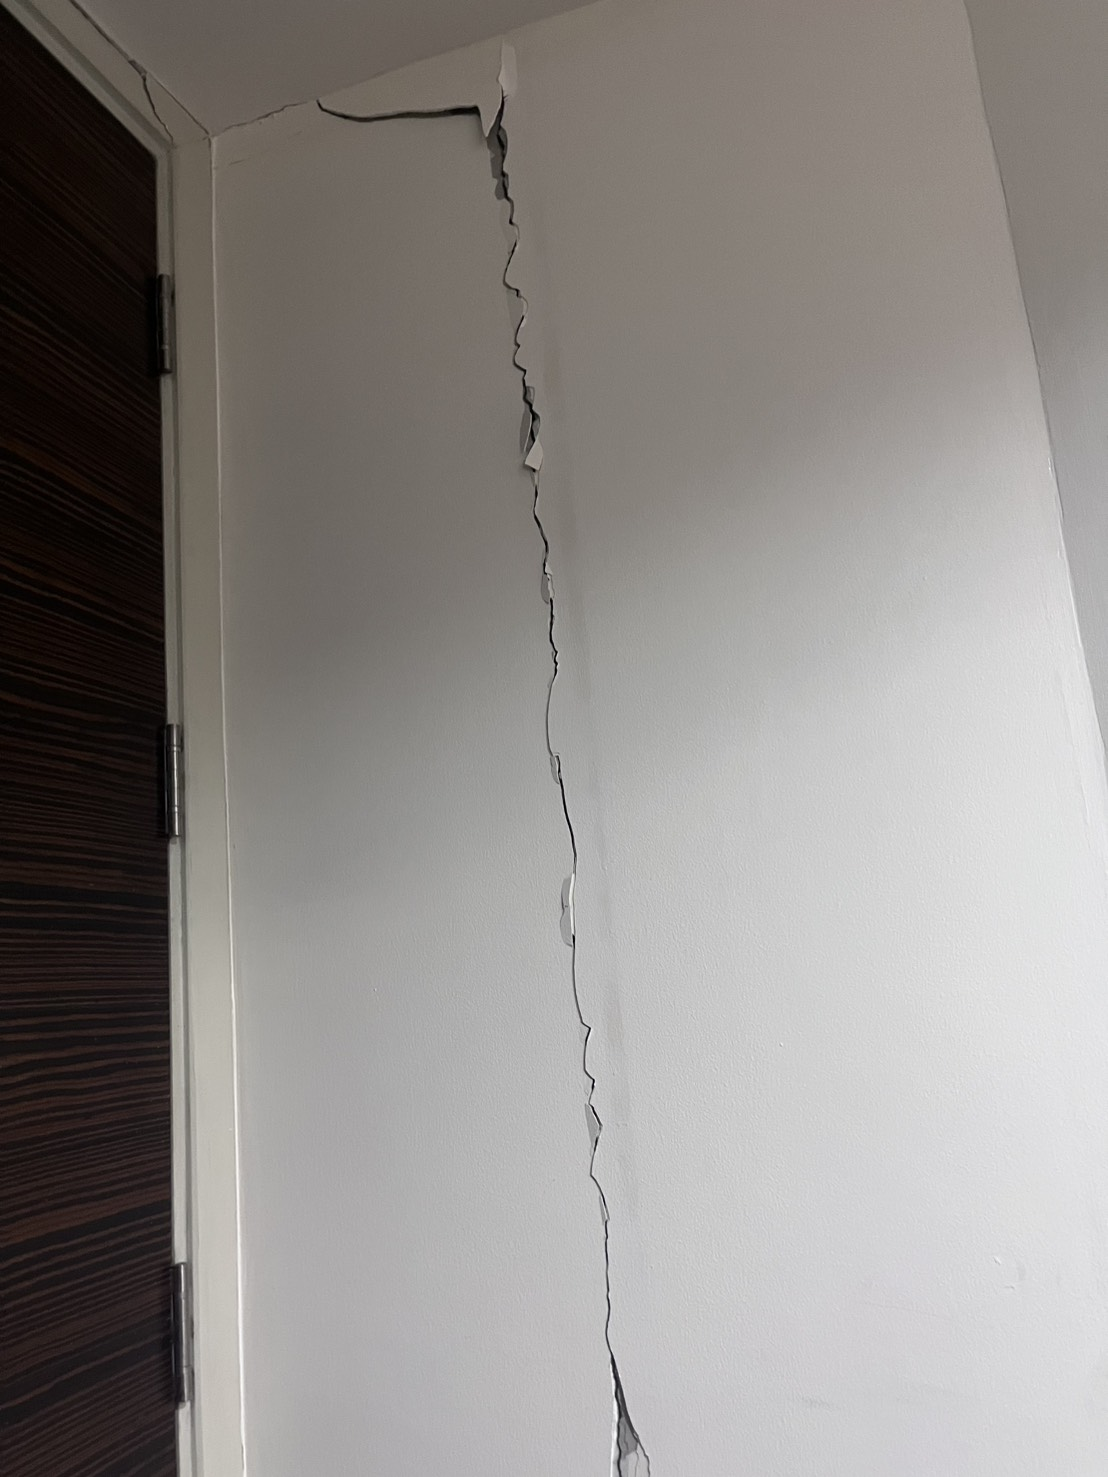Medium: (291, 88, 571, 551)
